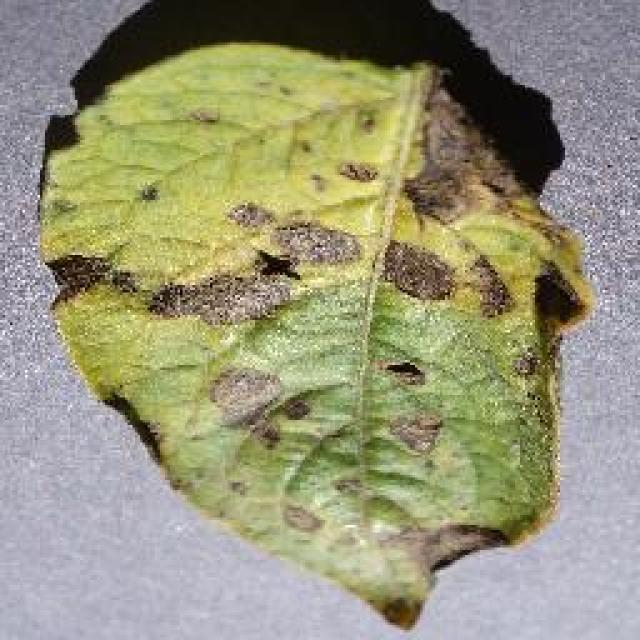Potato___Early_blight: (38, 40, 604, 635)
